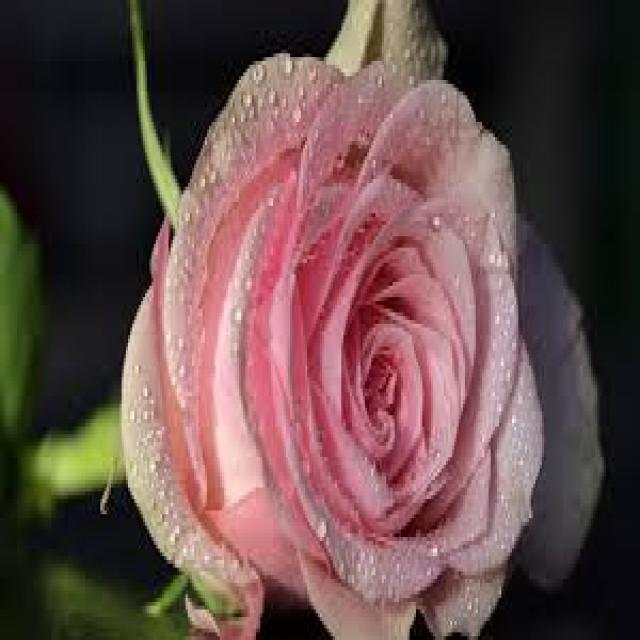rose: (122, 34, 628, 621)
